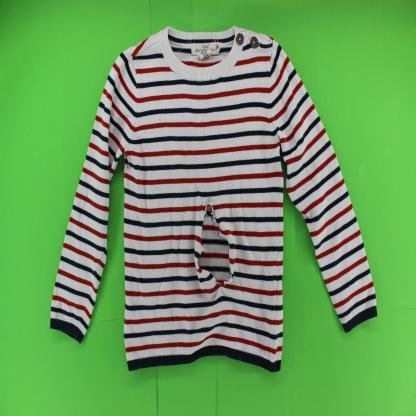hole: (194, 199, 236, 301)
